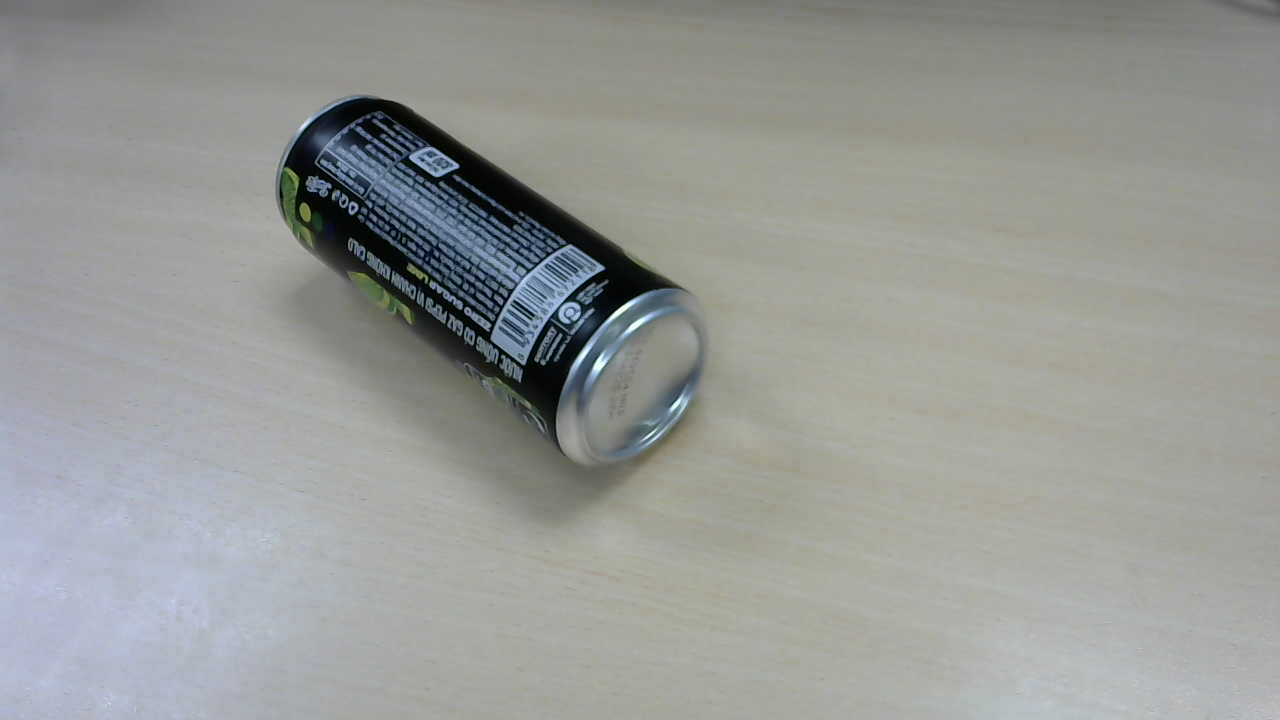Pepsi: (253, 78, 732, 494)
